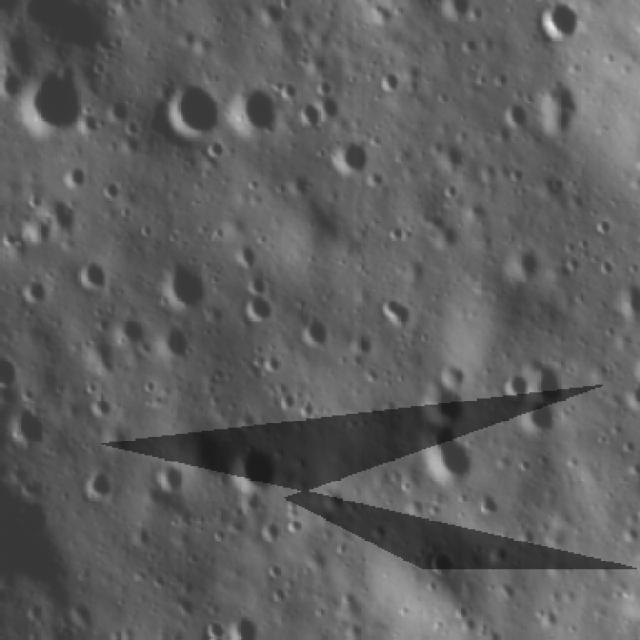crater: (19, 68, 95, 140), (162, 76, 218, 138), (225, 85, 283, 141), (418, 428, 472, 482), (161, 255, 207, 317), (495, 235, 547, 288), (419, 372, 466, 428), (514, 393, 566, 441), (5, 399, 47, 455), (232, 447, 278, 495), (537, 1, 585, 44), (417, 546, 468, 585), (377, 291, 418, 338), (147, 456, 188, 499), (328, 138, 369, 180), (77, 465, 117, 507), (301, 312, 337, 356), (152, 324, 188, 367), (609, 273, 640, 321), (75, 258, 111, 298), (15, 276, 54, 312), (234, 298, 280, 327), (498, 101, 532, 139), (224, 611, 265, 640), (472, 488, 503, 526), (290, 94, 322, 129), (500, 368, 528, 407), (372, 66, 406, 94), (56, 168, 90, 195), (96, 176, 125, 201), (199, 618, 226, 640)
